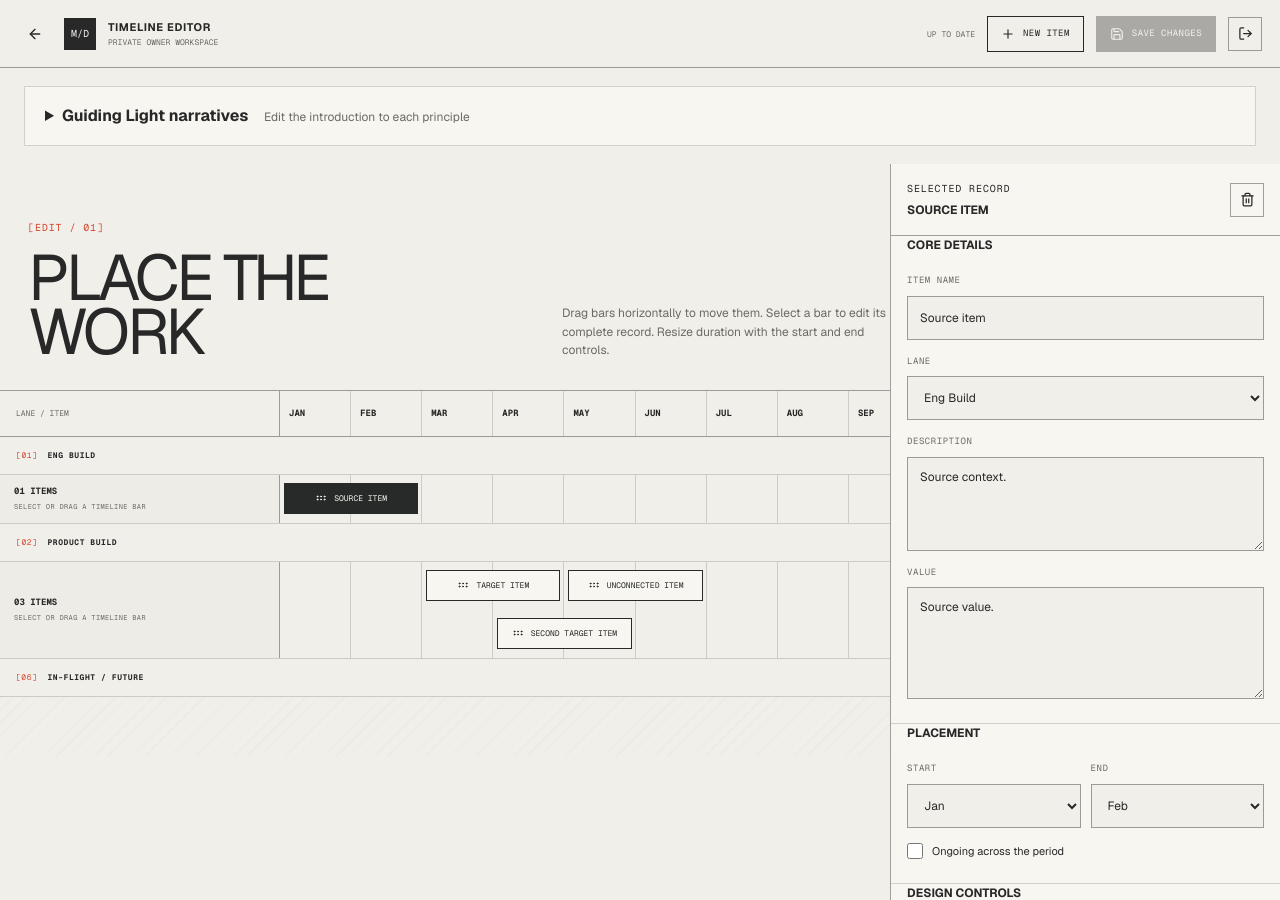
it: TimelineEditor Guiding Light narrative drafts › keeps drafts for each principle and saves narrative-only edits without sending Gantt items
Click the heading "Guiding Light narratives": (266, 116) [62, 105, 470, 126]
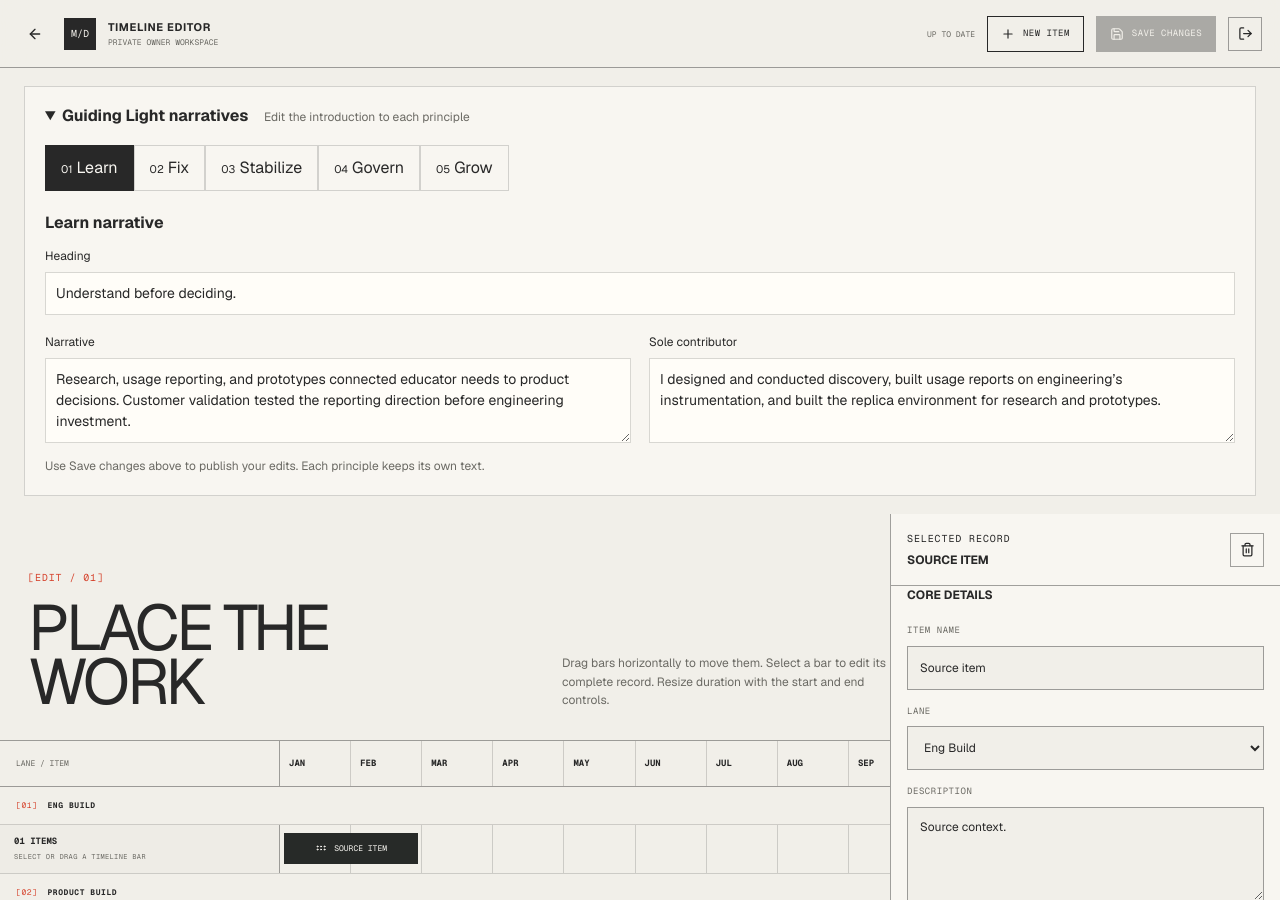
Replace the text in the field labelled "Heading" with "Learn draft": (640, 294) [45, 272, 1235, 315]
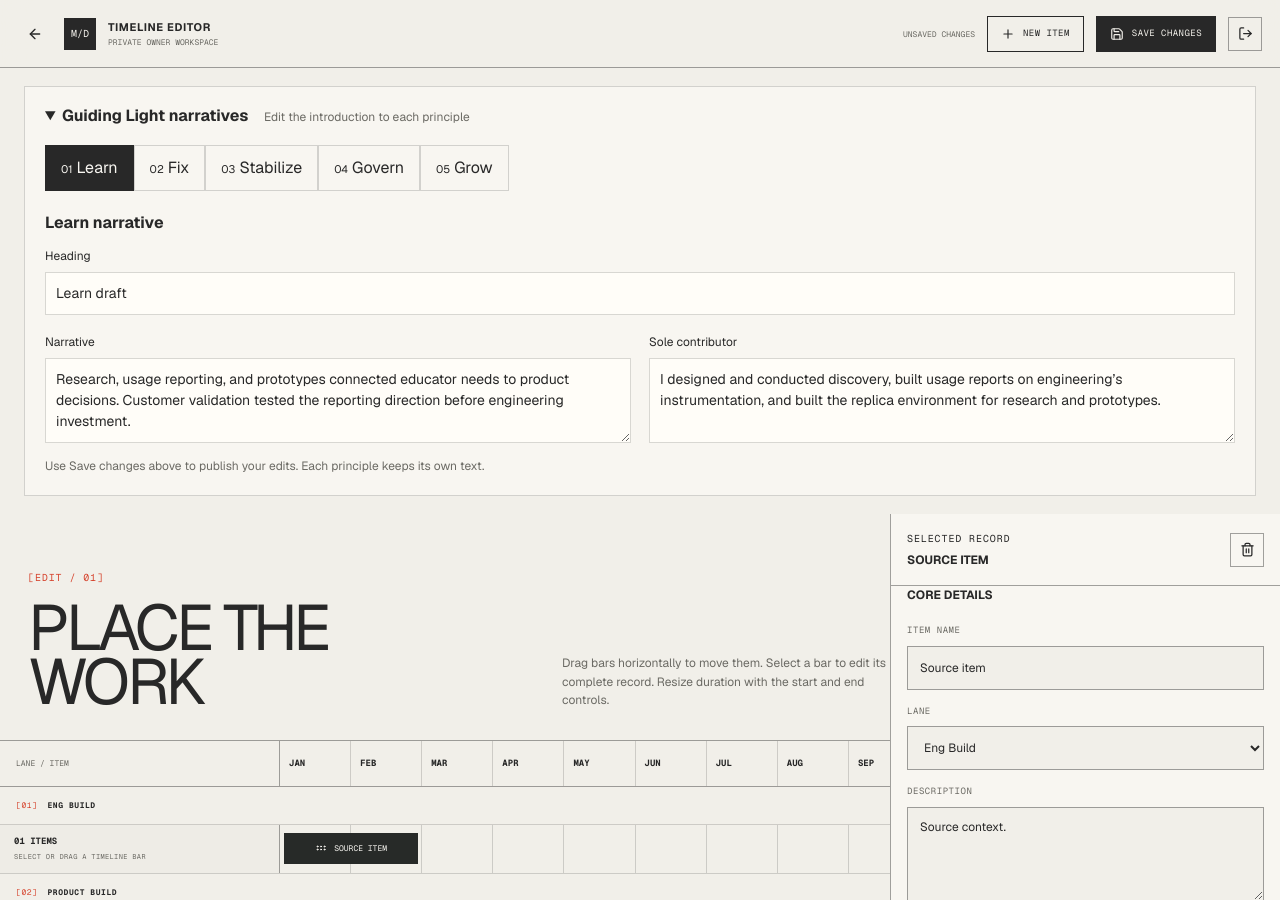
Click the button "05 Grow": (464, 168) [420, 145, 509, 191]
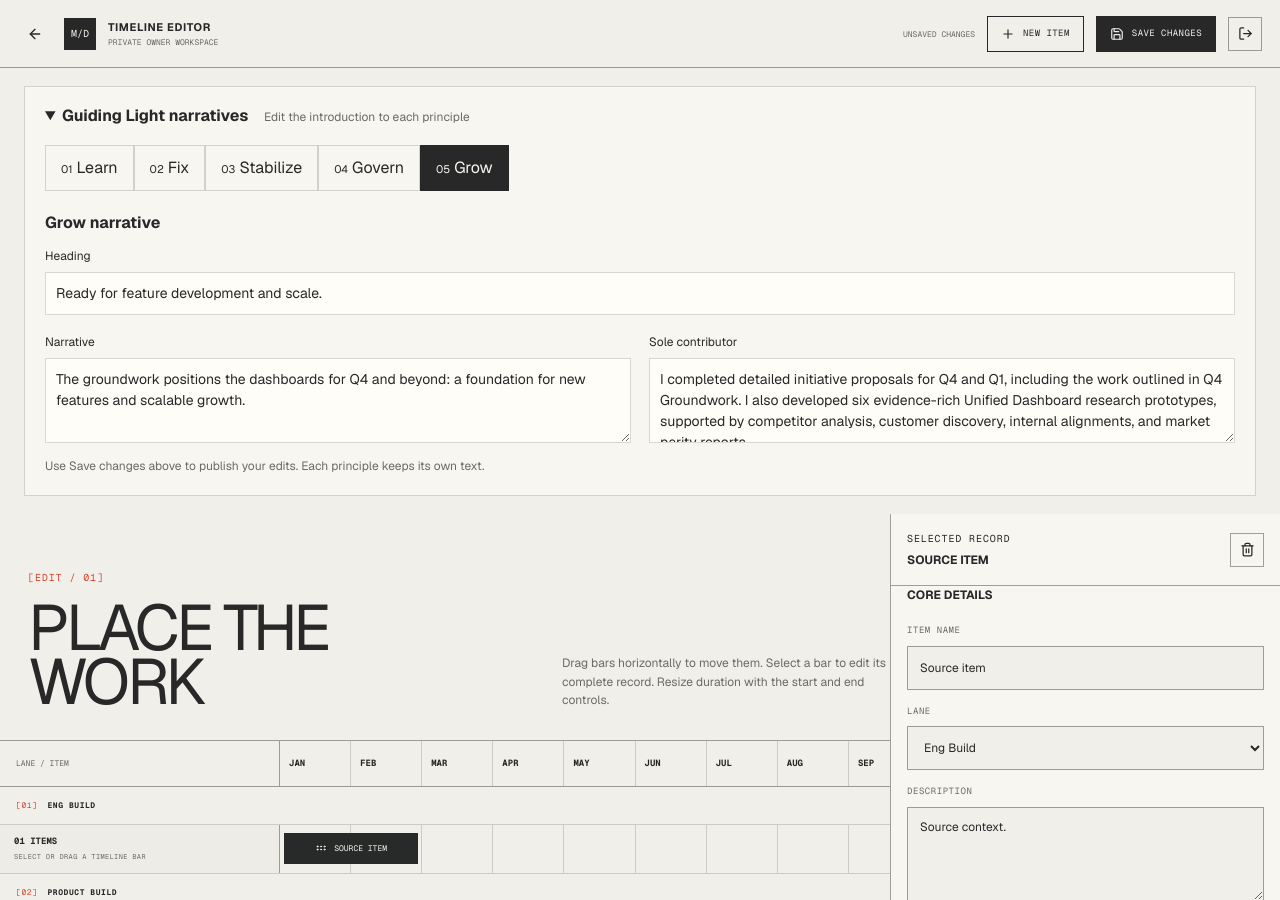
Replace the text in the text box labelled "Sole contributor" with "Grow contribution draft": (942, 400) [649, 358, 1235, 443]
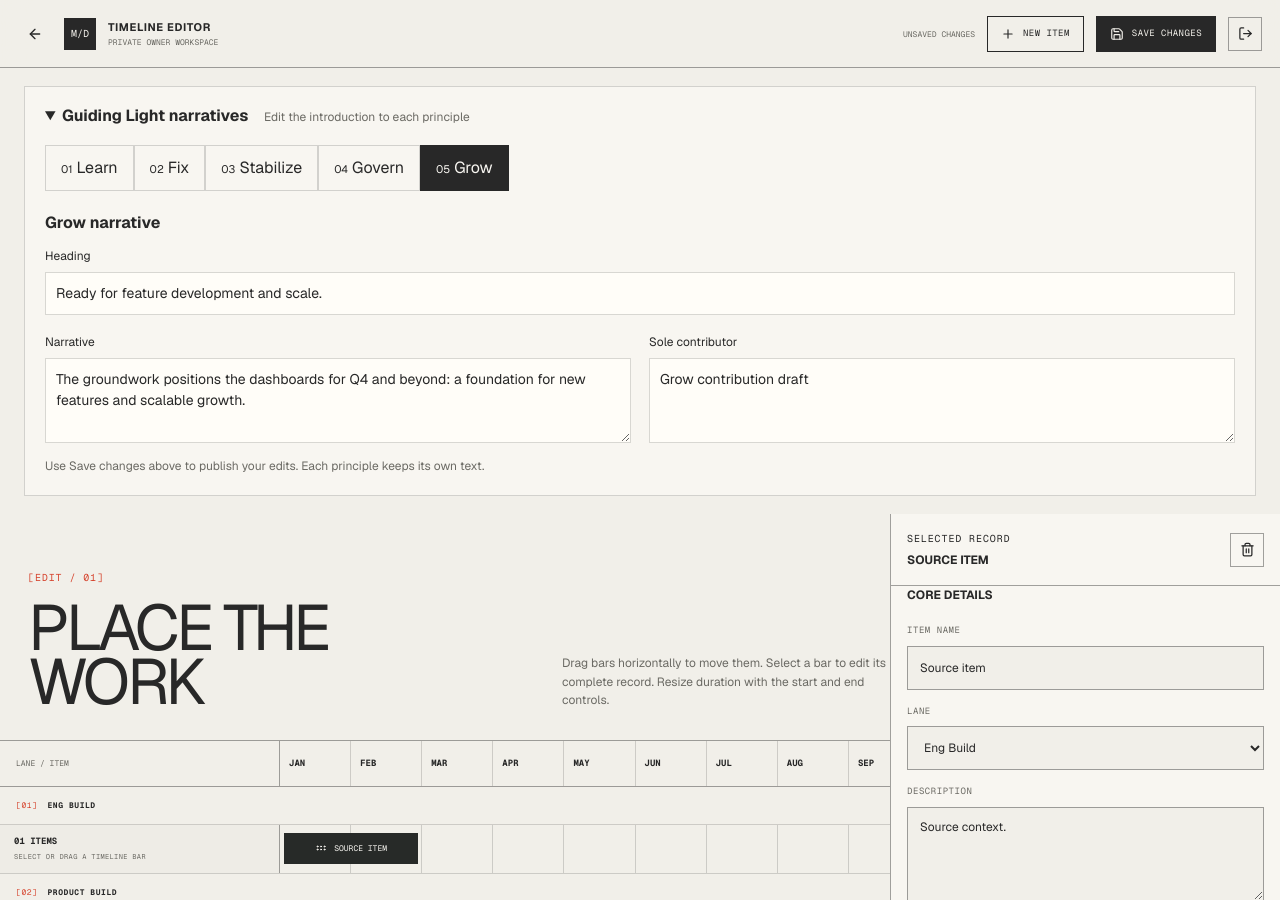
Click the button "01 Learn": (89, 168) [45, 145, 134, 191]
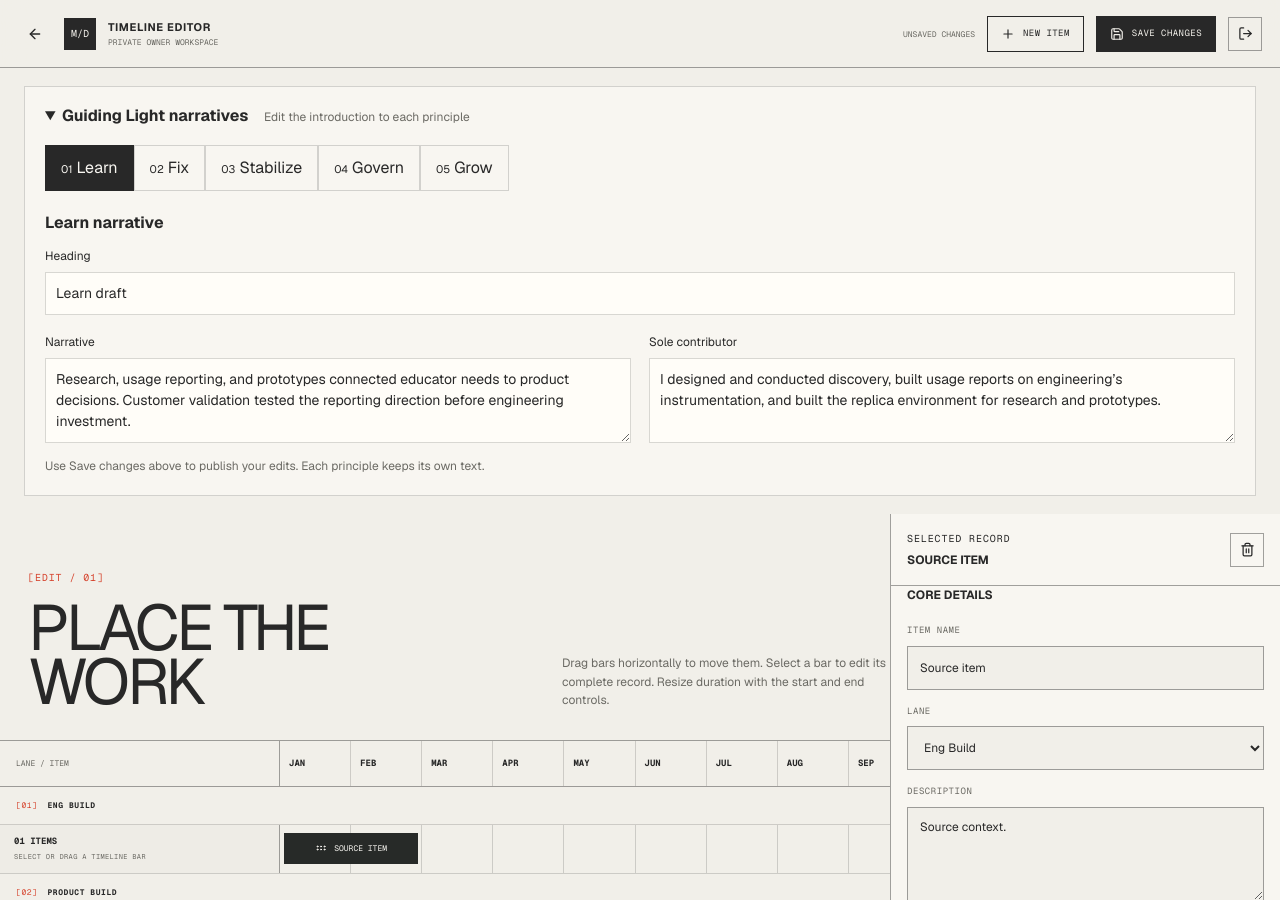
Click the button "Save changes": (1156, 34) [1096, 16, 1216, 52]
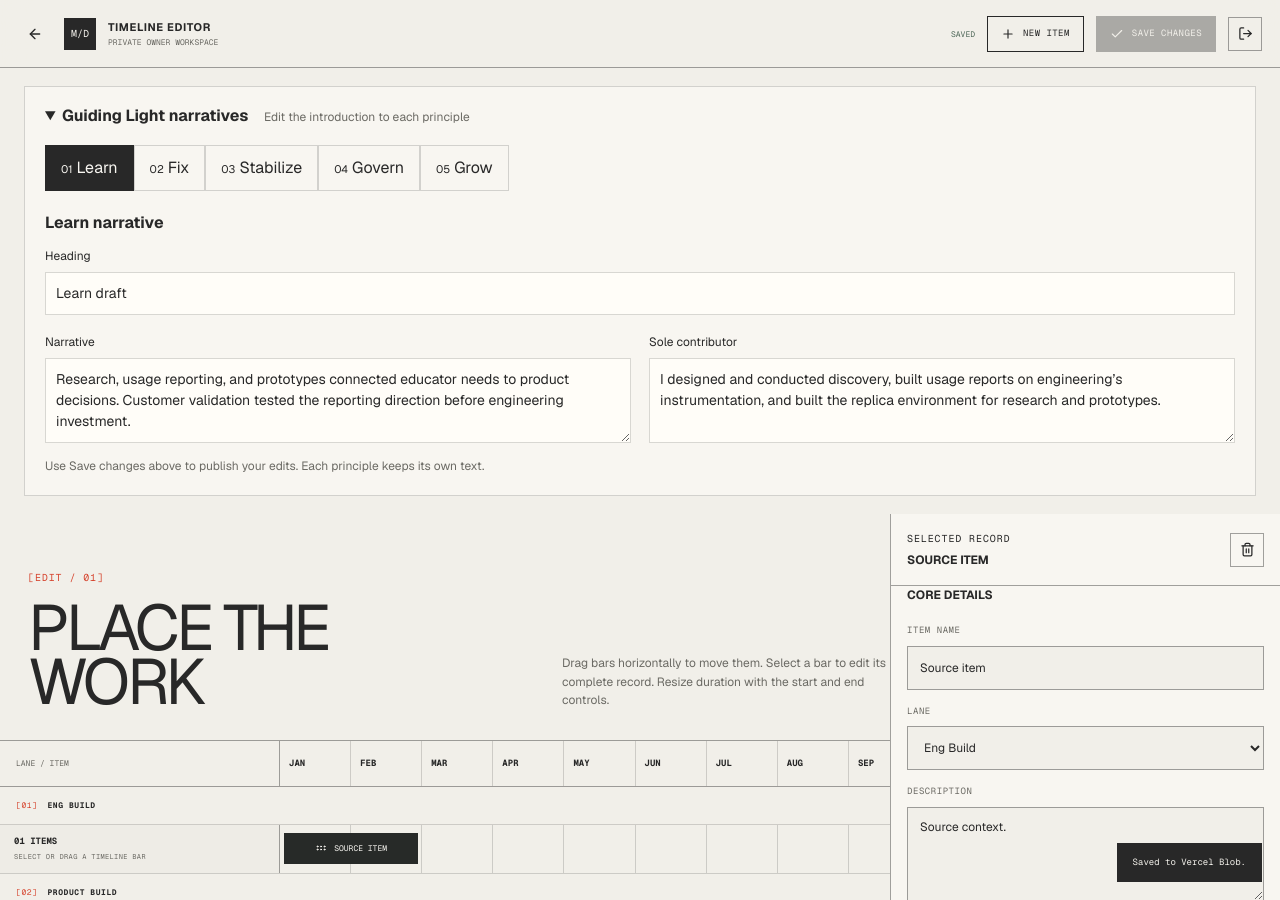
Expected: the text "Saved to Vercel Blob." is shown, [1117, 842, 1262, 882]
